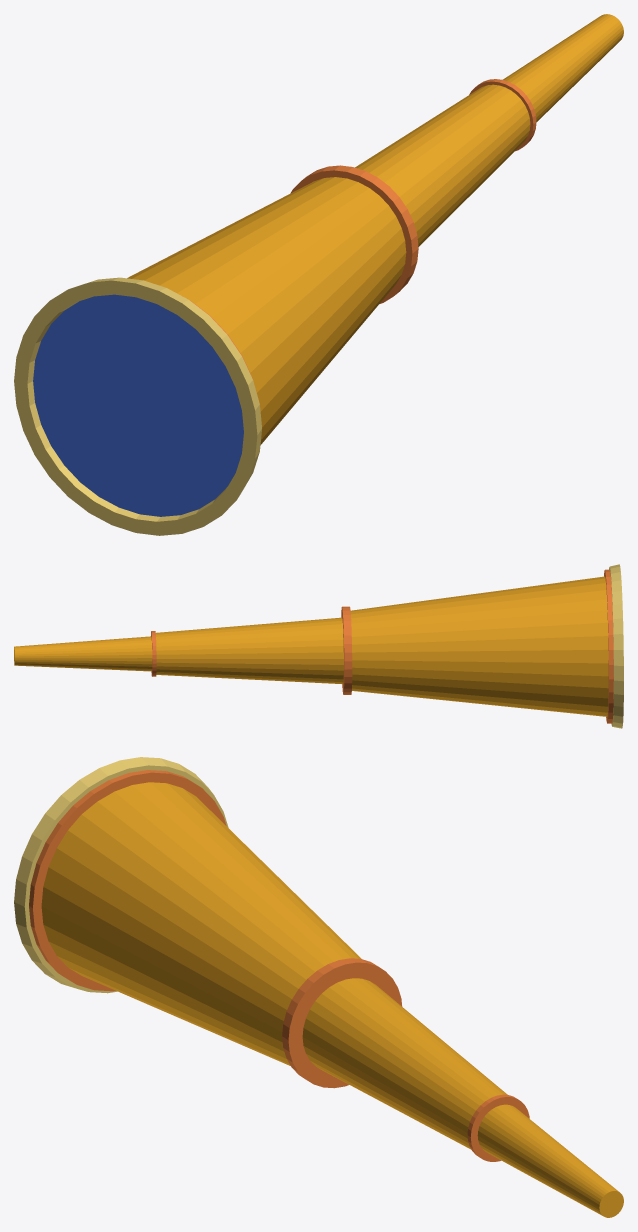
Rendered from spyglass2.fbx.
3 renders of one model, top to bottom at view 1: azimuth 30°, elevation 25°; view 2: azimuth 150°, elevation 25°; view 3: azimuth 270°, elevation 25°, orthographic. The views are drawn at different scales.
Parts seen in each view (by area): view 1: Cylinder.006, Cylinder.003, Cylinder.001; view 2: Cylinder.006, Cylinder.003, Cylinder.001; view 3: Cylinder.006, Cylinder.003, Cylinder.001.
Boxes of the visible parts, left/top/right/bottom form: Cylinder.006: left=127, top=14, right=623, bottom=445; Cylinder.003: left=33, top=79, right=536, bottom=516; Cylinder.001: left=14, top=277, right=261, bottom=535; Cylinder.006: left=14, top=576, right=608, bottom=716; Cylinder.003: left=151, top=569, right=613, bottom=723; Cylinder.001: left=609, top=564, right=623, bottom=728; Cylinder.006: left=41, top=782, right=623, bottom=1217; Cylinder.003: left=29, top=770, right=529, bottom=1161; Cylinder.001: left=14, top=757, right=228, bottom=993.
Size of the model in its own units: 835 by 244 by 595.
